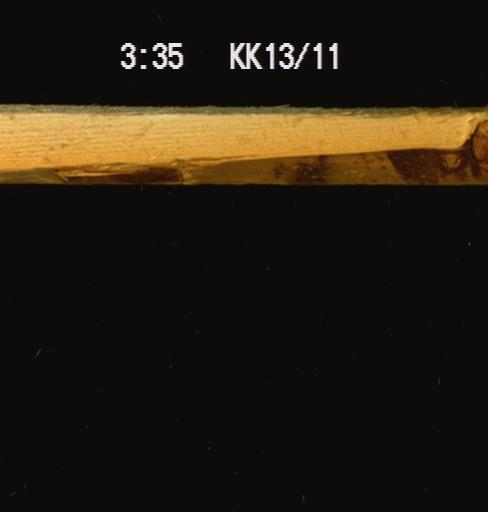wave: (0, 106, 487, 183)
